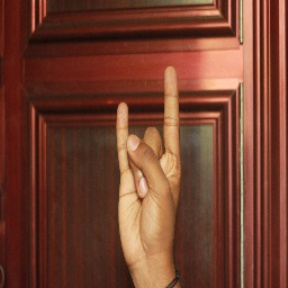V: (112, 64, 189, 256)
